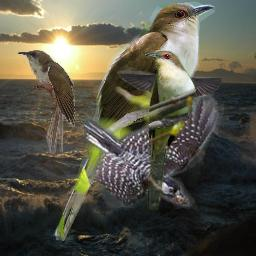Cuckoo: (53, 1, 215, 241), (143, 50, 197, 210), (17, 49, 75, 154)
Swallow: (114, 67, 224, 120)
Woodpecker: (84, 93, 224, 211)
